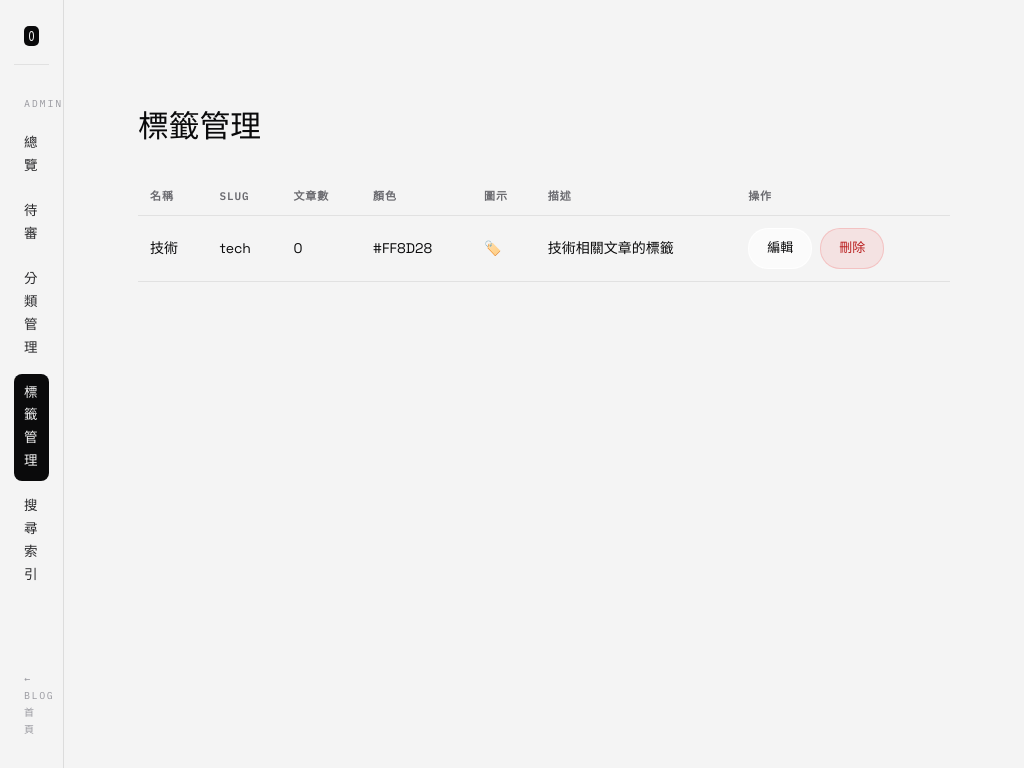
Test: AdminTagsView › 刪除標籤 › usageCount = 0 時點「刪除」顯示確認對話框
Click the button with test id "admin-tags-delete-tag-uuid-2".
click(852, 249)  # box [820, 228, 884, 269]
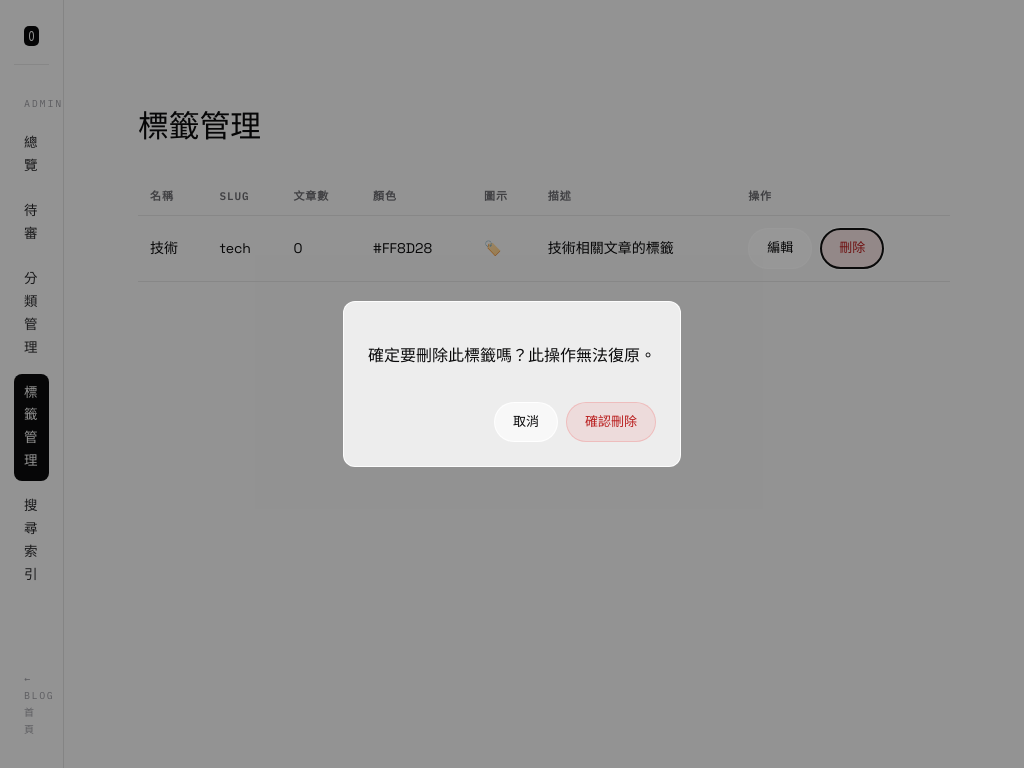
Check: the element with test id "admin-tags-delete-confirm" is shown
